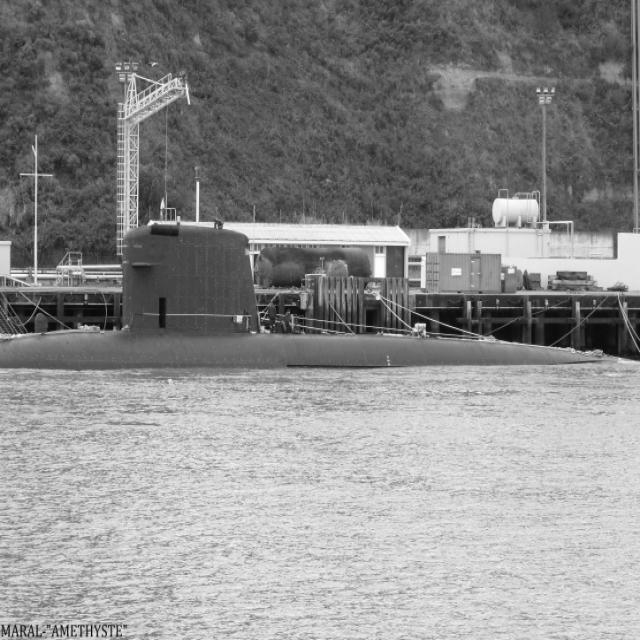submarine: (1, 230, 621, 362)
